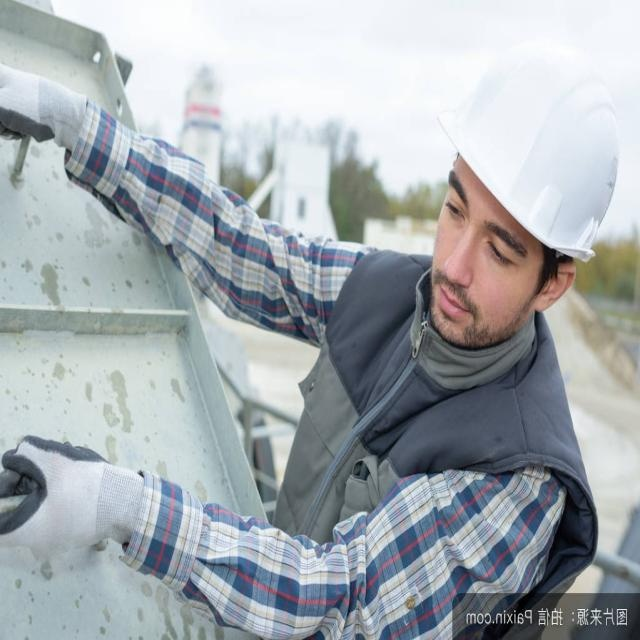Con_Casco: (433, 40, 618, 342)
